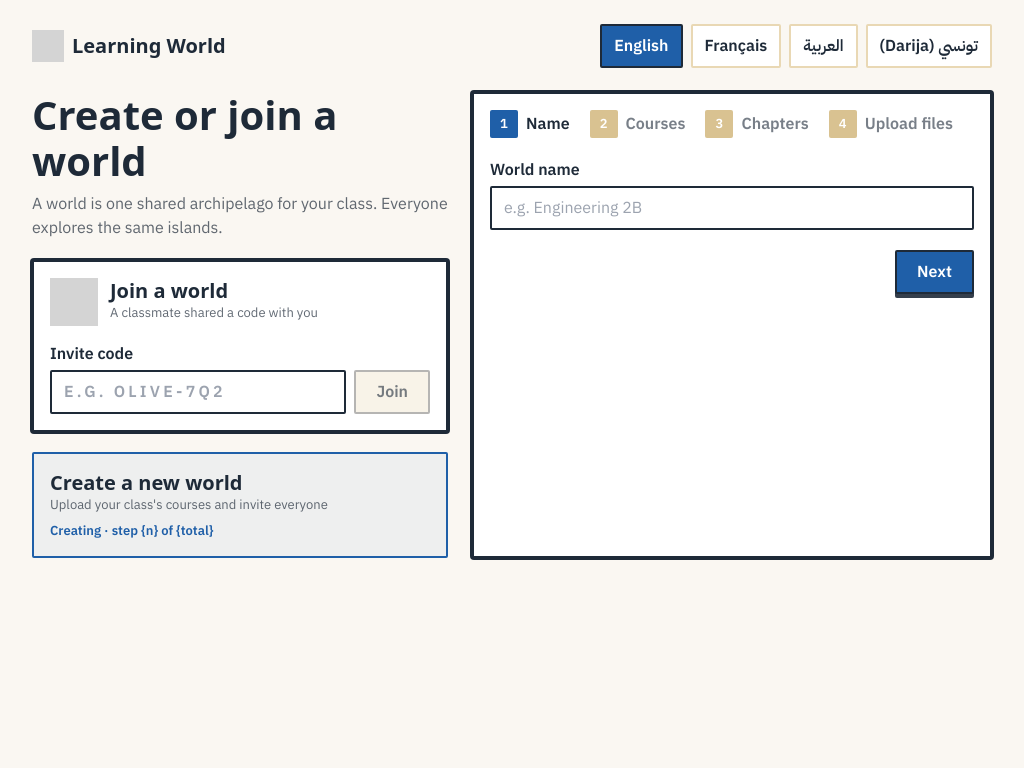
Test: Create-world wizard › shows the server's error key when the join code is unknown
Step 1. Type "olive 222" into the field labelled "Invite code" → x=198, y=392, box [50, 370, 346, 414]
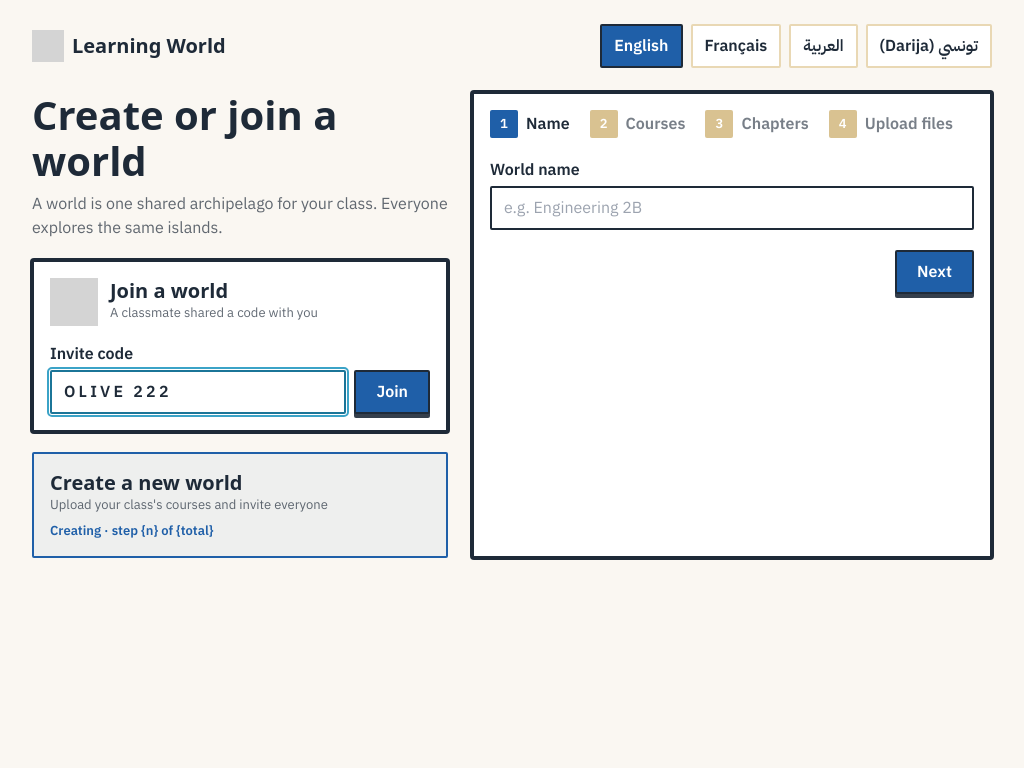
Step 2. Click the button "Join" → x=392, y=392, box [354, 370, 430, 414]
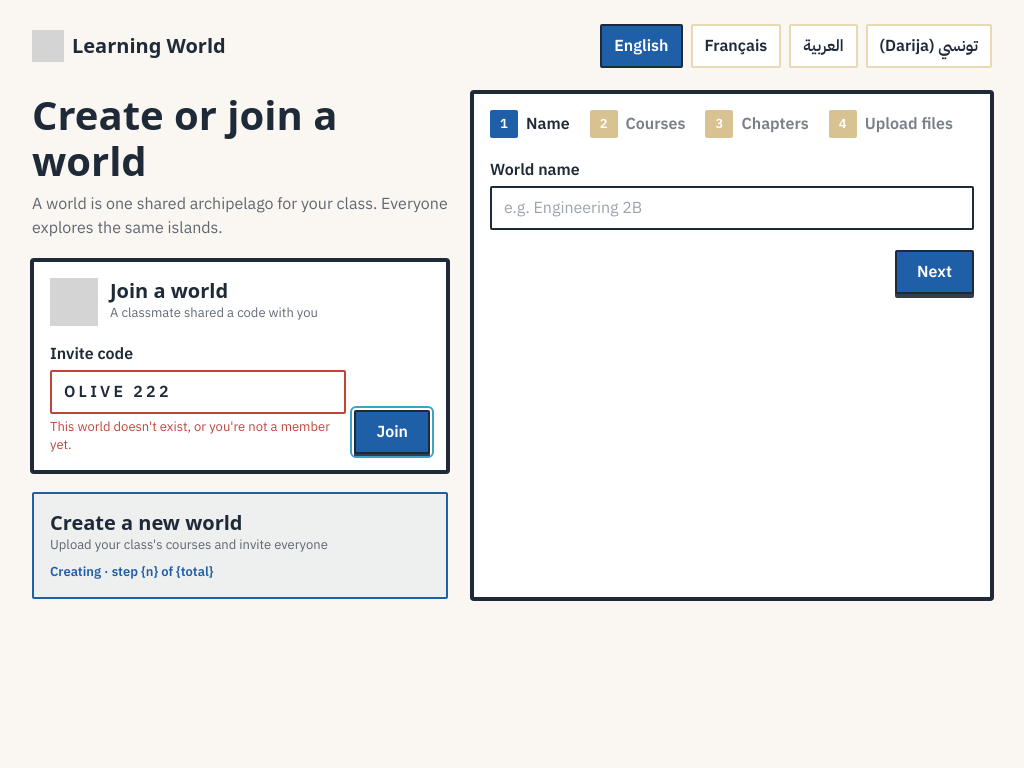
Result: the text "This world doesn't exist, or you're not a member yet." is shown at [50, 418, 346, 454]
